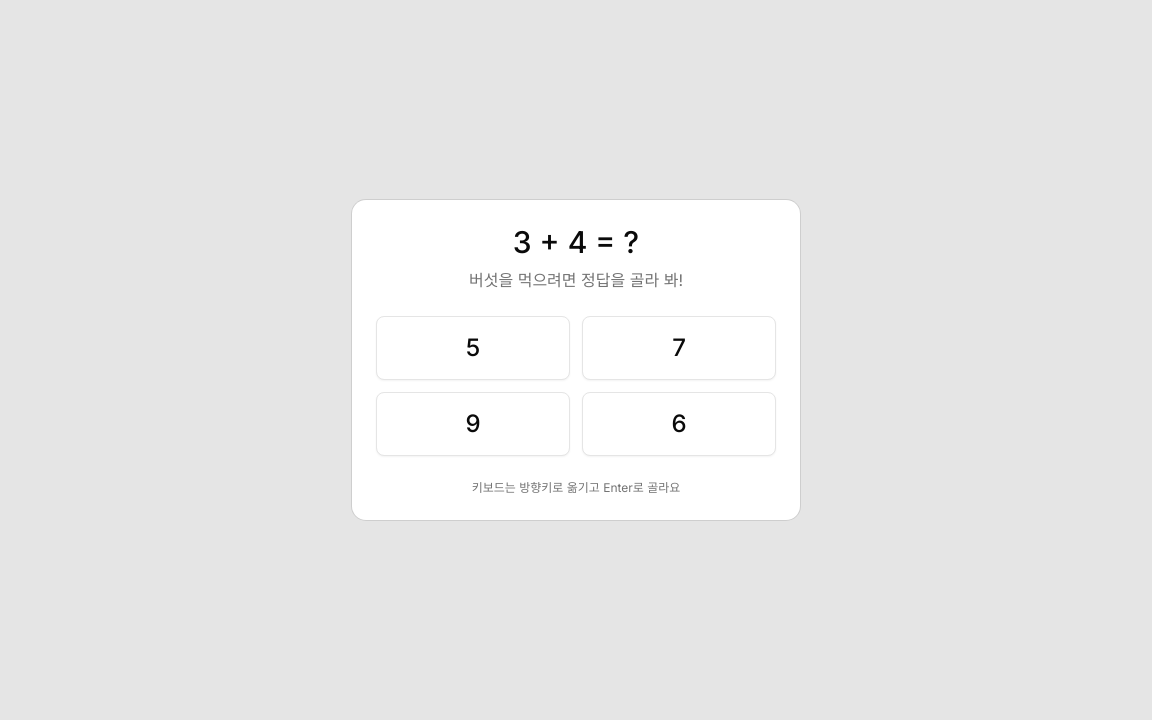
Test: 퀴즈 대화상자 › 틀린 보기를 고르면 같은 문제가 남고 부드러운 안내가 보이며 풀린 것으로 처리되지 않는다
Click the button "5": (473, 348) [376,316,570,380]
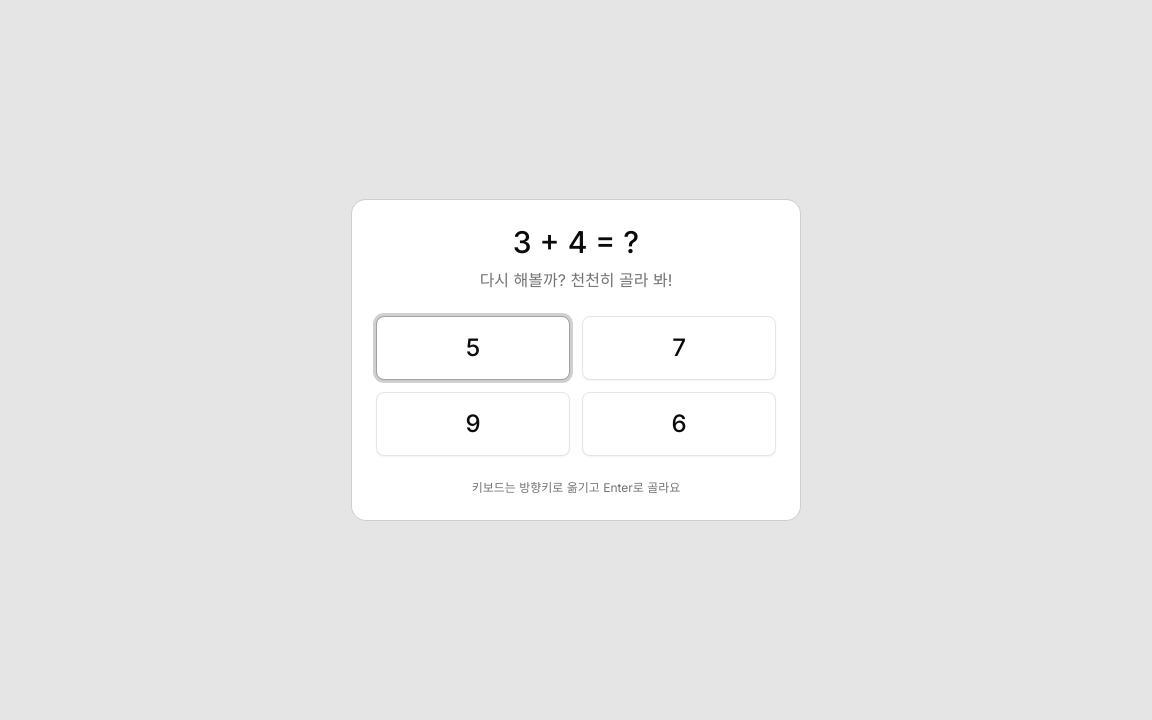
Check: the heading "3 + 4 = ?" is shown, box [513,224,639,260]
Check: the text "다시 해볼까? 천천히 골라 봐!" is shown, box [480,270,672,290]
